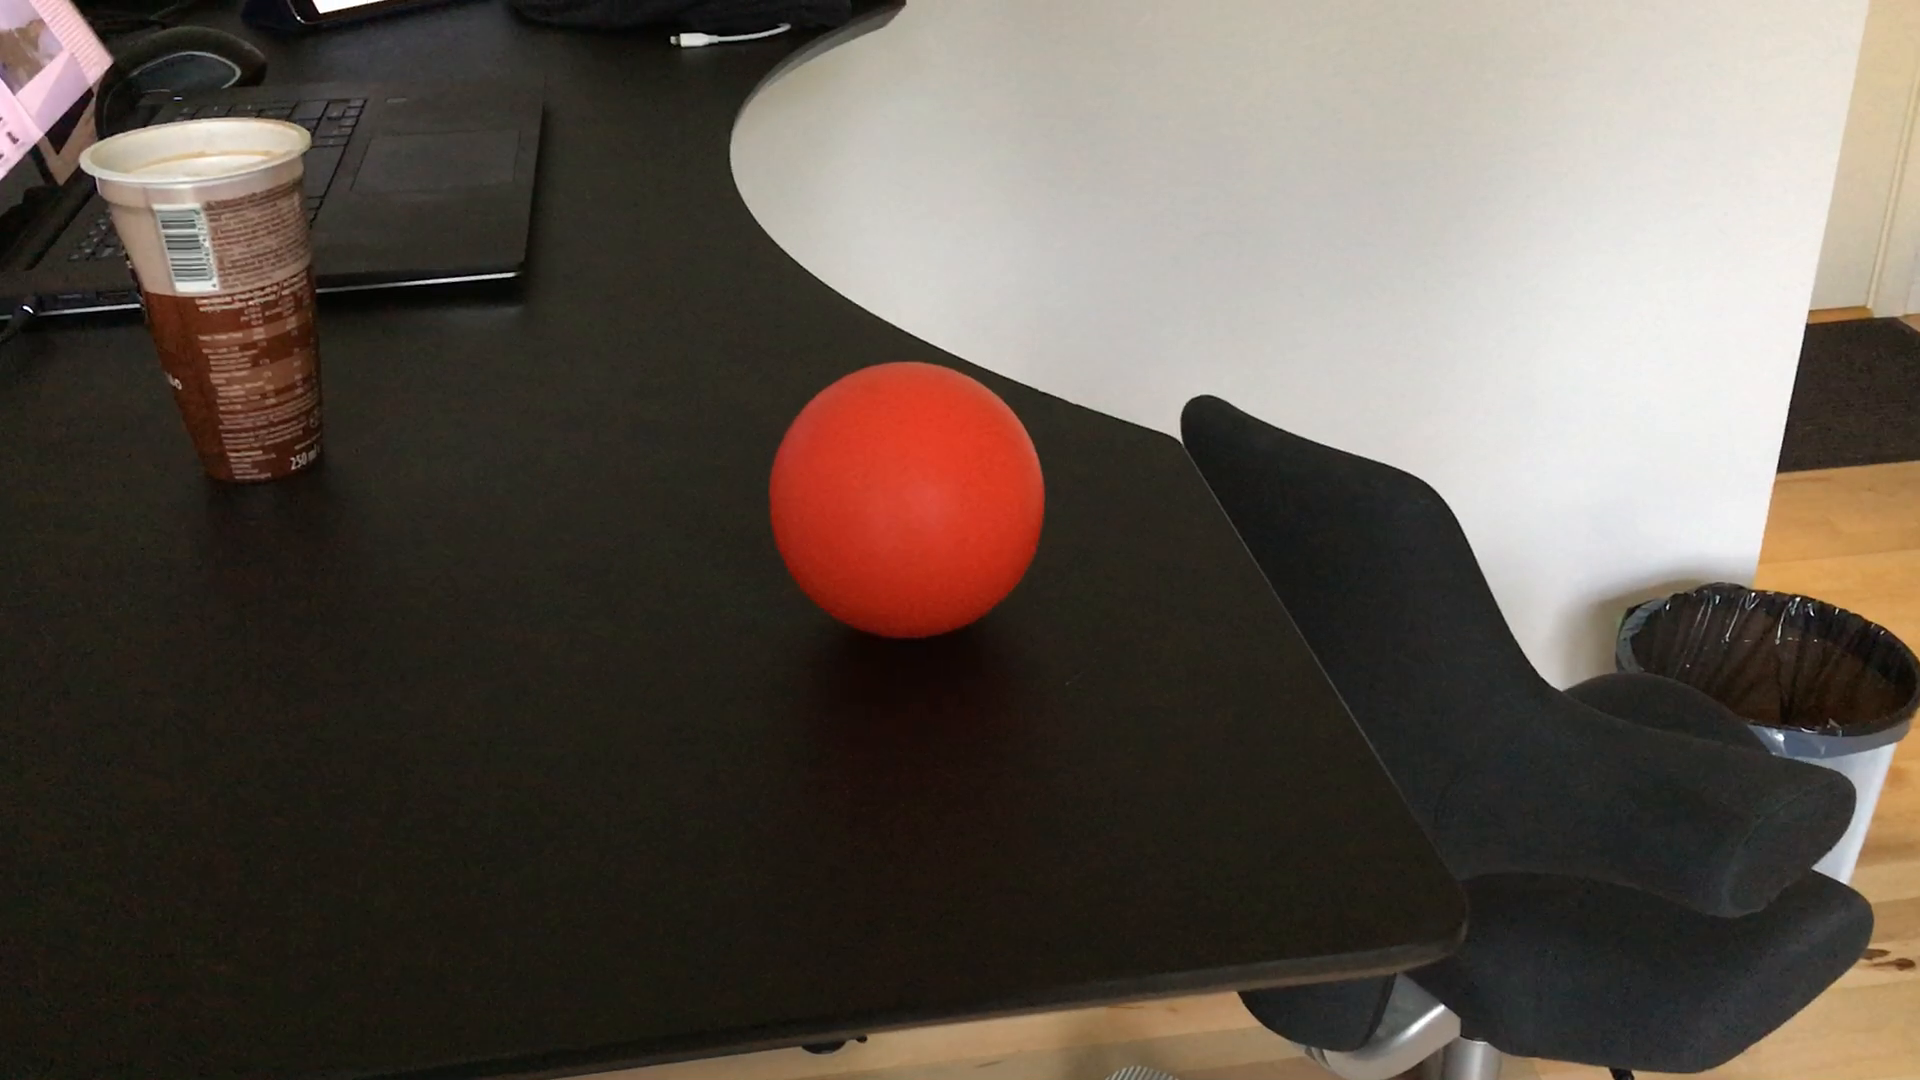Ball: (775, 359, 1047, 634)
